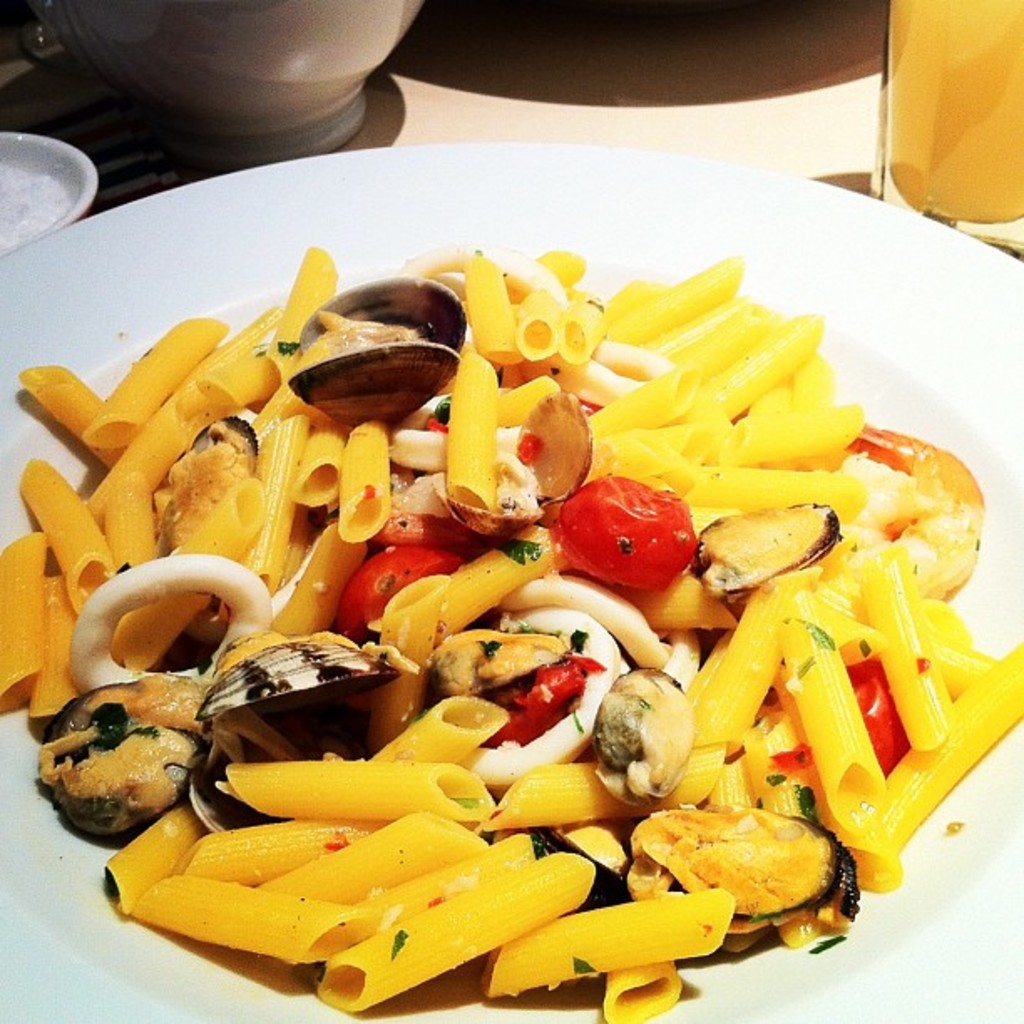pasta: (0, 244, 1022, 1022)
